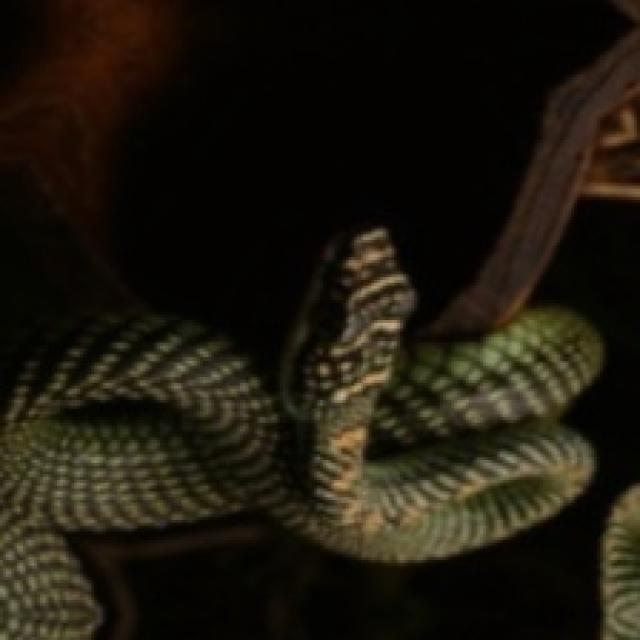paradise tree snake: (60, 197, 637, 637), (0, 0, 631, 394), (0, 229, 600, 637)
